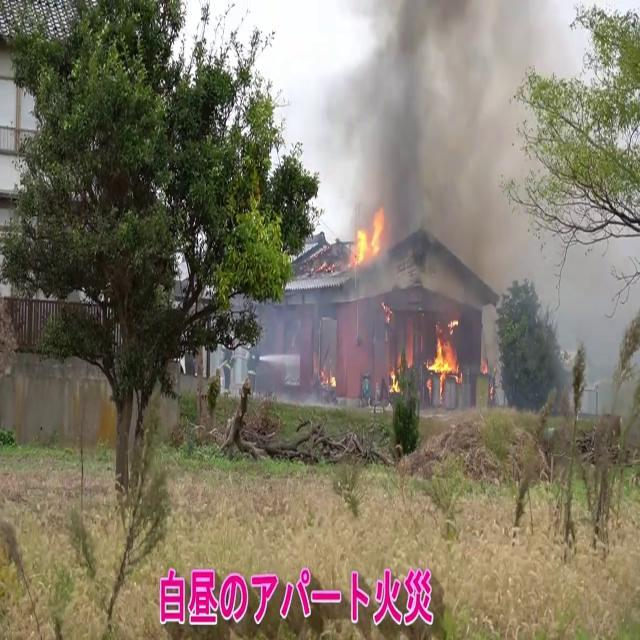Fire: (425, 321, 463, 388), (351, 205, 386, 270)
Smoke: (336, 0, 537, 372)
